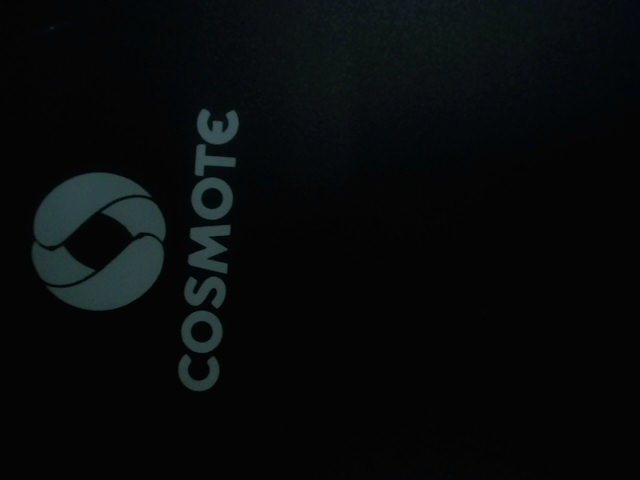AU_COSMOTE: (27, 104, 252, 396)
